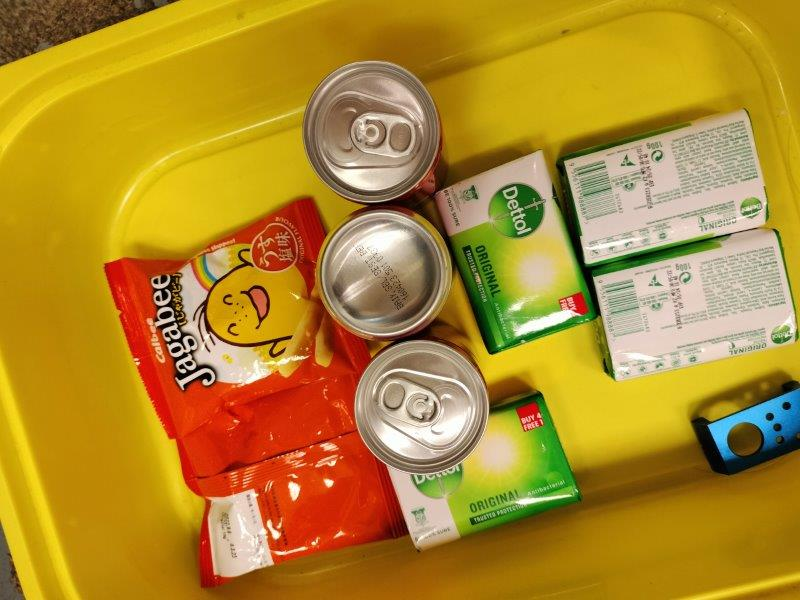Coke: (305, 62, 437, 197), (356, 341, 487, 472), (320, 210, 443, 338)
Dettol: (565, 109, 767, 266), (441, 155, 598, 348), (594, 233, 796, 380)
Jagabee: (107, 200, 366, 436), (170, 385, 408, 589)
